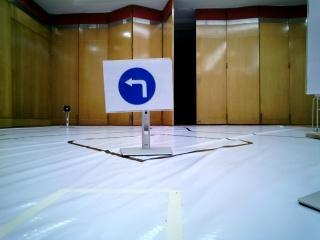left: (107, 62, 170, 108)
